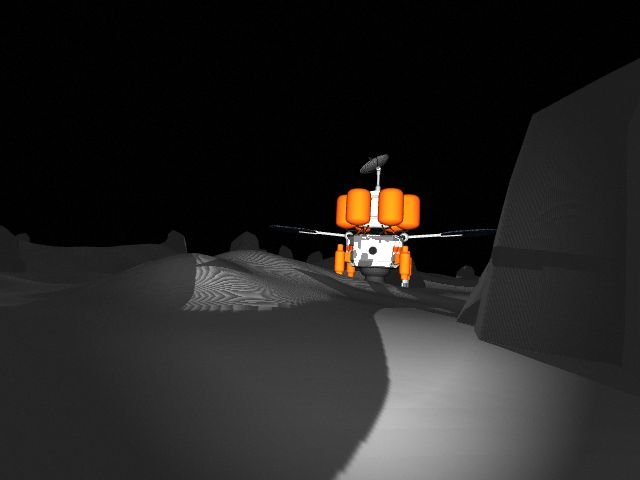homebase: (257, 152, 499, 292)
